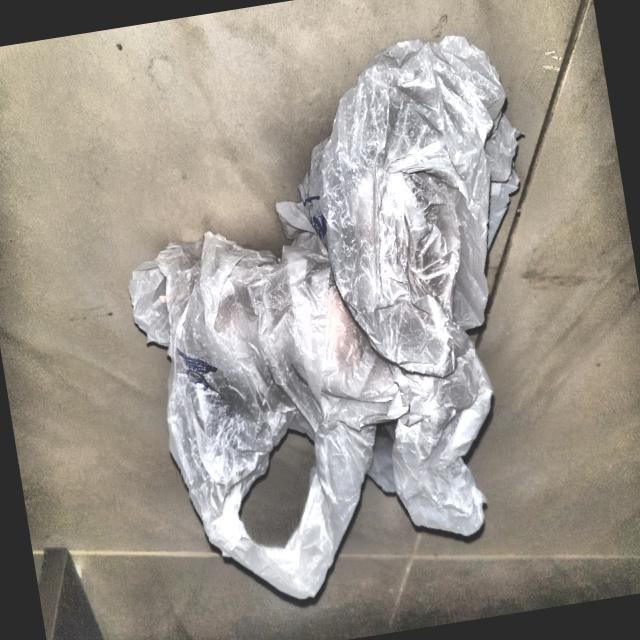plastic bag: (87, 9, 600, 635)
